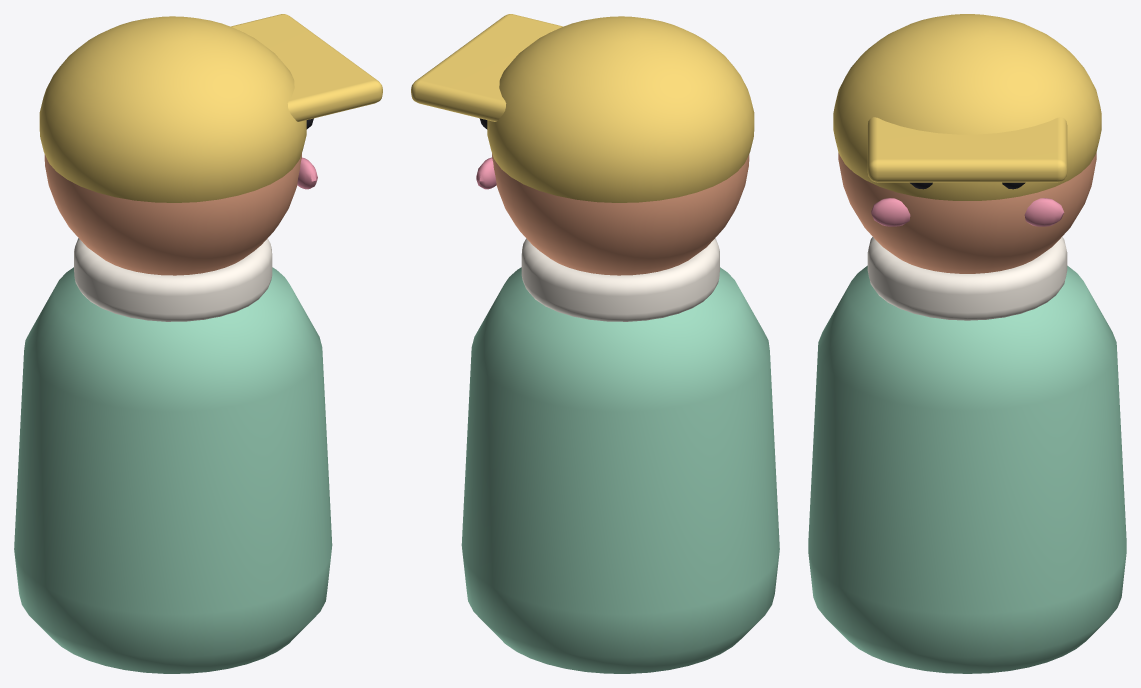
File: peg_a.glb
3 views of the same model, side by side, from view 1: azimuth 30°, elevation 25°; view 2: azimuth 150°, elevation 25°; view 3: azimuth 270°, elevation 25° (orthographic).
Parts seen in each view (by area): view 1: peg_a; view 2: peg_a; view 3: peg_a.
Part boxes in pixels (x1,y1,x2,y2): peg_a: (14, 14, 382, 673); peg_a: (411, 14, 779, 673); peg_a: (808, 14, 1126, 673).
Size of the model in its own units: 0.35 by 0.6513 by 0.3189.
1 material, 1 textured.
